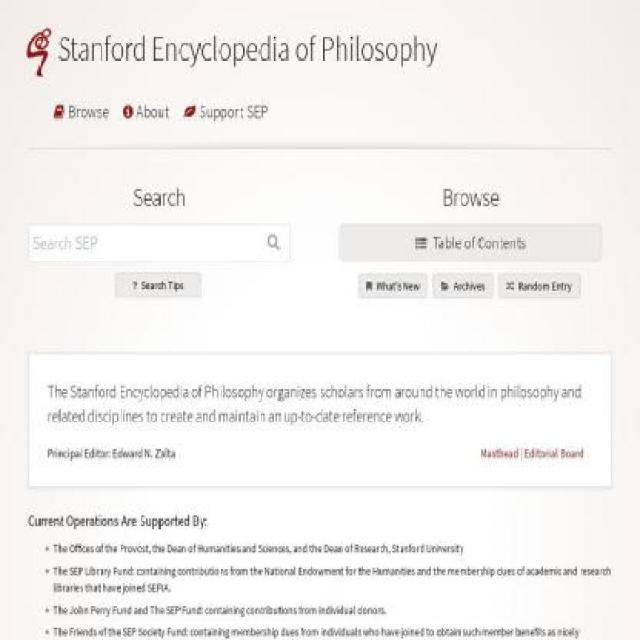button: (340, 223, 602, 262), (183, 101, 269, 132), (114, 272, 201, 297), (498, 272, 580, 298), (358, 272, 428, 298), (53, 101, 110, 132), (432, 272, 493, 298), (123, 101, 171, 132)
field: (28, 223, 292, 262)
